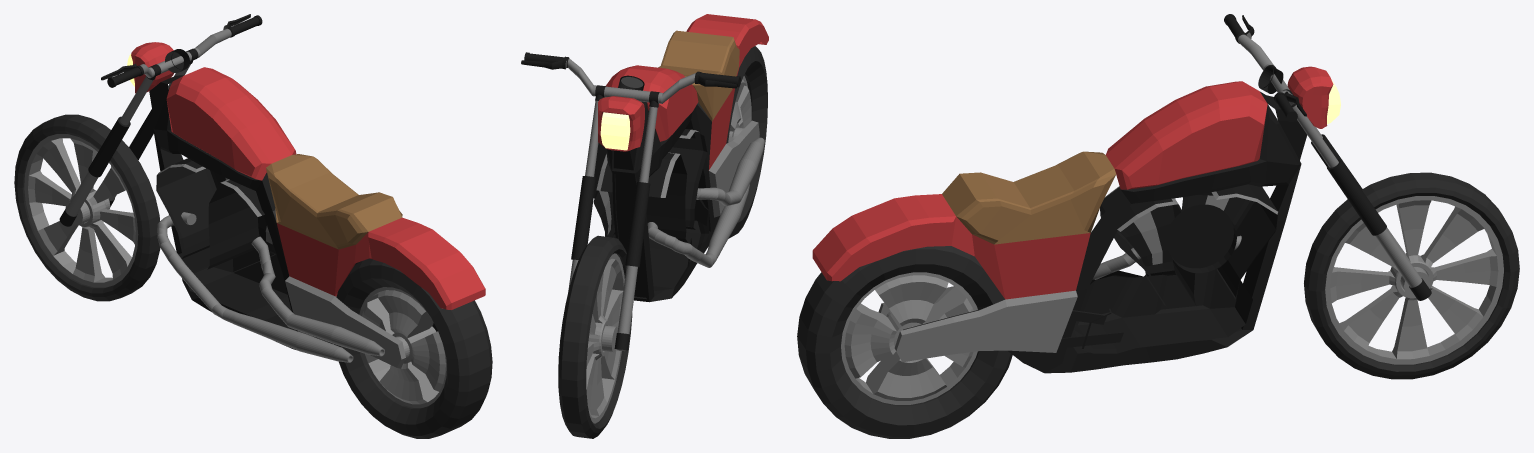
The model's file is moto.glb.
3 renders of one model, left to right at view 1: azimuth 30°, elevation 25°; view 2: azimuth 150°, elevation 25°; view 3: azimuth 270°, elevation 25°, orthographic. The views are drawn at different scales.
Visible parts, largest first — view 1: Chasis, mOTOR, RuedaTrasera, RuedaDelantera, Manubrio; view 2: Chasis, mOTOR, RuedaDelantera, Manubrio, RuedaTrasera; view 3: Chasis, RuedaTrasera, RuedaDelantera, mOTOR, Manubrio.
Part boxes in pixels (x1,y1,x2,y2): Chasis: [149, 67, 485, 368]; mOTOR: [156, 158, 384, 362]; RuedaTrasera: [334, 258, 492, 438]; RuedaDelantera: [14, 114, 160, 301]; Manubrio: [59, 14, 262, 226]; Chasis: [606, 14, 768, 302]; mOTOR: [593, 129, 764, 290]; RuedaDelantera: [558, 235, 632, 438]; Manubrio: [521, 52, 740, 351]; RuedaTrasera: [697, 46, 767, 238]; Chasis: [812, 81, 1307, 373]; RuedaTrasera: [797, 246, 1012, 438]; RuedaDelantera: [1304, 172, 1519, 379]; mOTOR: [1073, 184, 1278, 353]; Manubrio: [1224, 14, 1431, 300].
Bounding box in the file's own units: 1.43 × 1.93 × 3.83.
